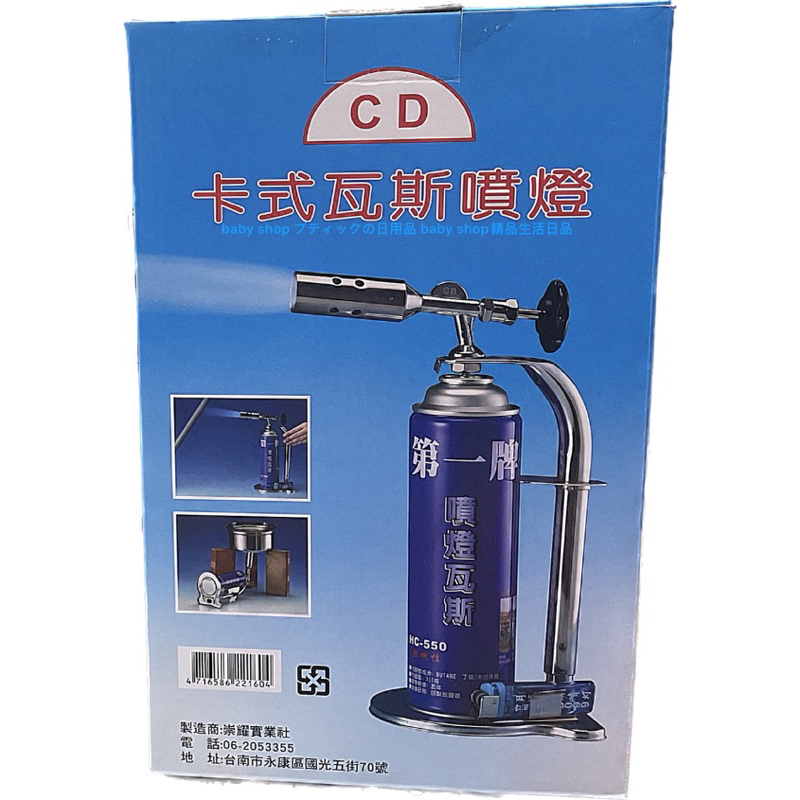gastorch: (291, 265, 606, 744), (242, 409, 295, 499), (192, 552, 262, 604)
